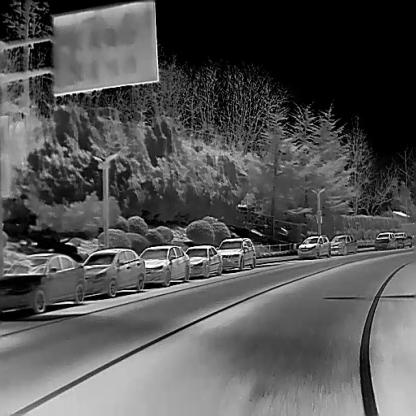car: (0, 251, 84, 309), (84, 247, 146, 296), (141, 244, 189, 286), (183, 244, 222, 278), (218, 236, 255, 269), (297, 234, 330, 258), (329, 234, 356, 254), (374, 232, 396, 248), (393, 232, 412, 248)
